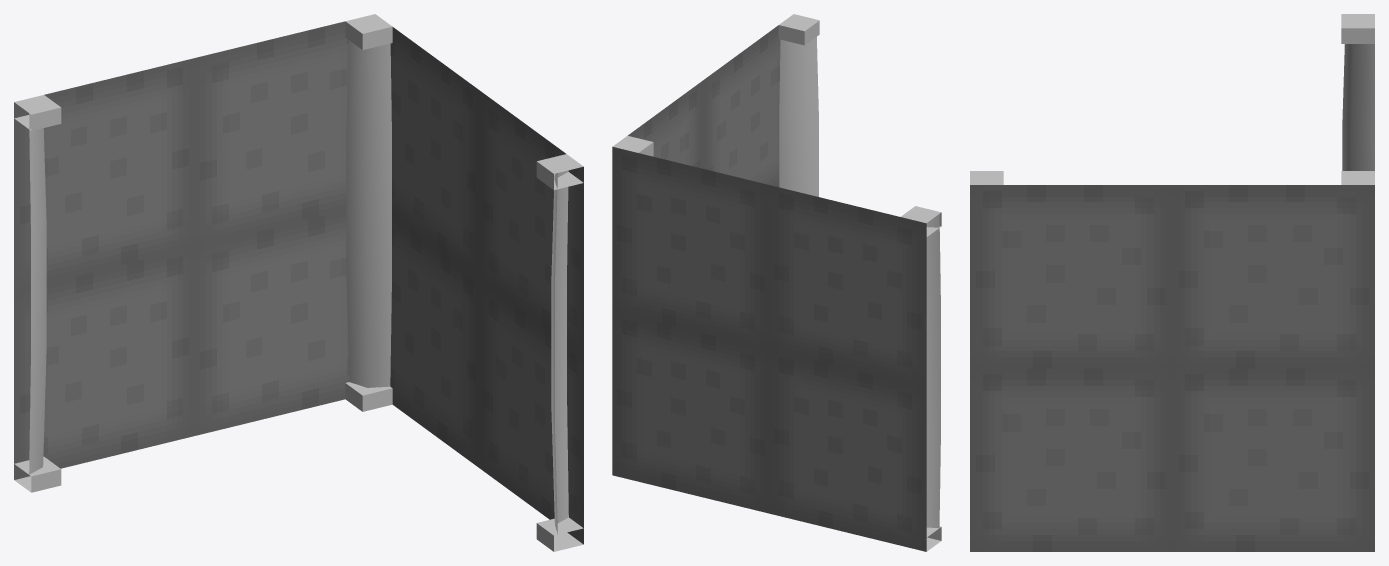
The model's file is wall_corner_topright_32x32.obj.
3 renders of one model, left to right at view 1: azimuth 30°, elevation 25°; view 2: azimuth 150°, elevation 25°; view 3: azimuth 270°, elevation 25°, orthographic. The views are drawn at different scales.
Parts seen in each view (by area): view 1: Cube.045_Column.002; view 2: Cube.045_Column.002; view 3: Cube.045_Column.002.
Part boxes in pixels (x1,y1,x2,y2): Cube.045_Column.002: (14,14,583,551); Cube.045_Column.002: (612,14,941,551); Cube.045_Column.002: (970,14,1374,551).
Size of the model in its own units: 64 by 64 by 64.
